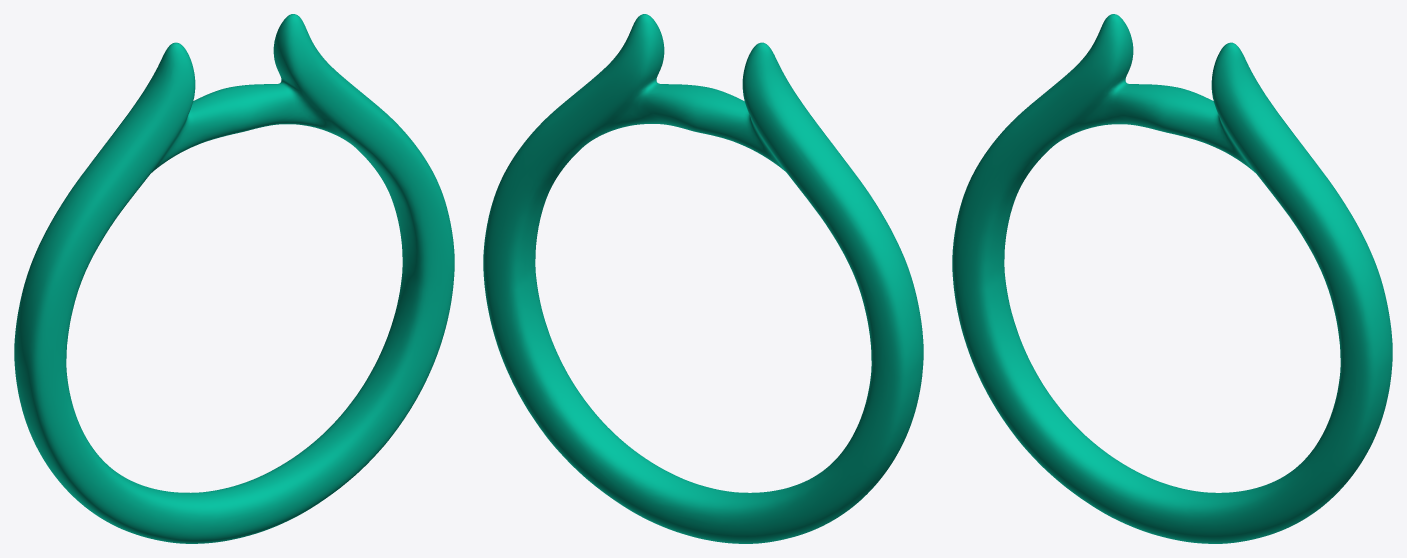
The model's file is Shank.glb.
The picture shows the model from 3 angles, left to right: view 1: azimuth 30°, elevation 25°; view 2: azimuth 150°, elevation 25°; view 3: azimuth 330°, elevation 25°; orthographic projection.
Visible parts, largest first — view 1: /GSMOD388300- CLAW PRONG_SHANAK_IJ.3dm; view 2: /GSMOD388300- CLAW PRONG_SHANAK_IJ.3dm; view 3: /GSMOD388300- CLAW PRONG_SHANAK_IJ.3dm.
Boxes of the visible parts, x1,y1,x2,y2 form: /GSMOD388300- CLAW PRONG_SHANAK_IJ.3dm: (14, 14, 454, 543); /GSMOD388300- CLAW PRONG_SHANAK_IJ.3dm: (483, 14, 923, 543); /GSMOD388300- CLAW PRONG_SHANAK_IJ.3dm: (952, 14, 1392, 543).
Bounding box in the file's own units: 20.86 × 23.62 × 2.27.
